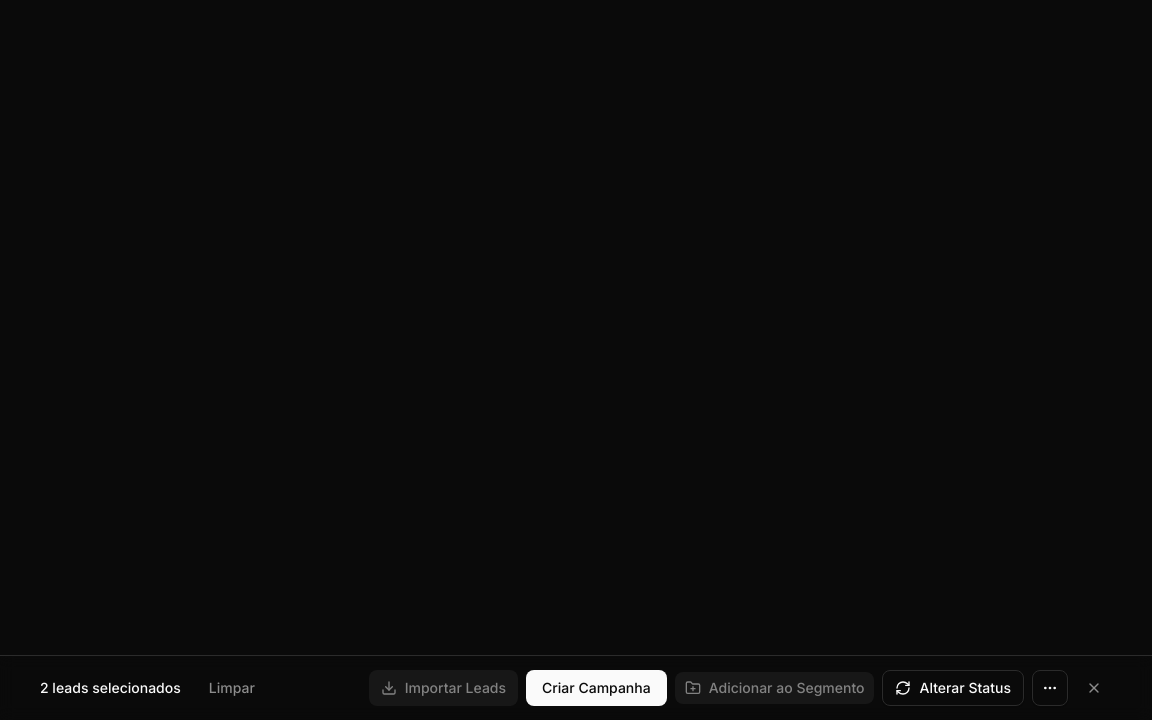
Test: LeadSelectionBar › Bulk Delete (Story 12.5) › AC#3: can cancel delete dialog
The image size is (1152, 720).
Click the 1st button named "Mais opções" at (1050, 688), box [1032,670,1068,706]
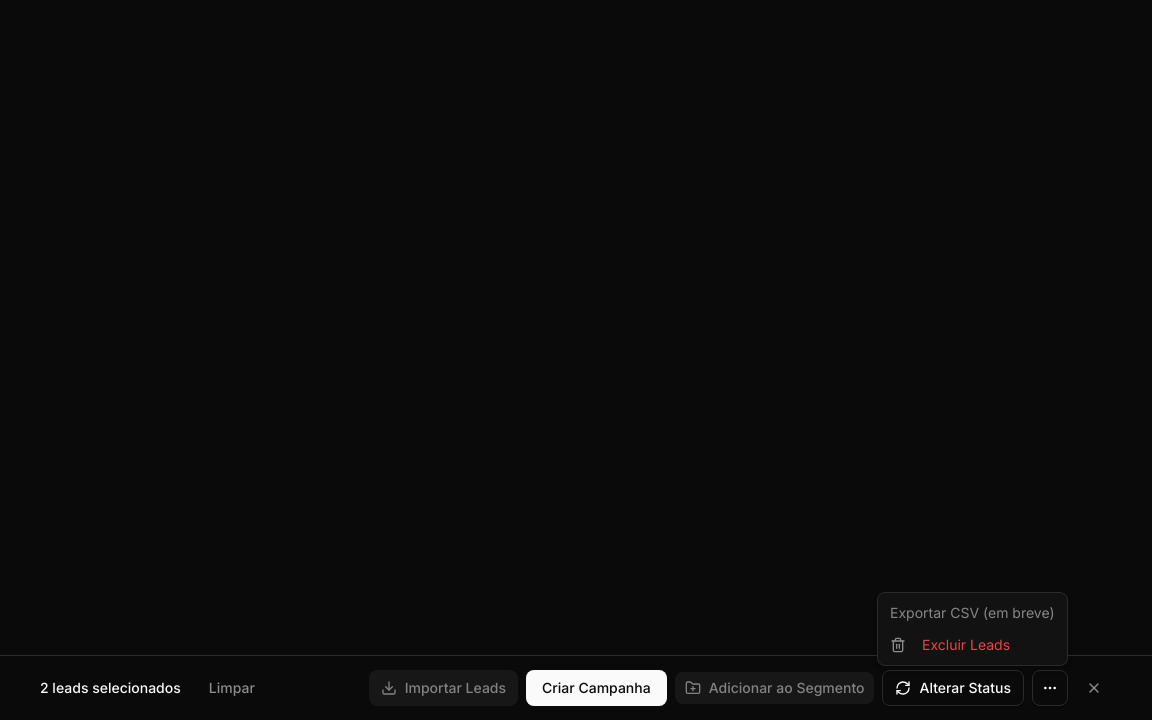
Now the menu item "Excluir Leads" is shown
Click the menu item "Excluir Leads" at (950, 644), box [890,636,1010,653]
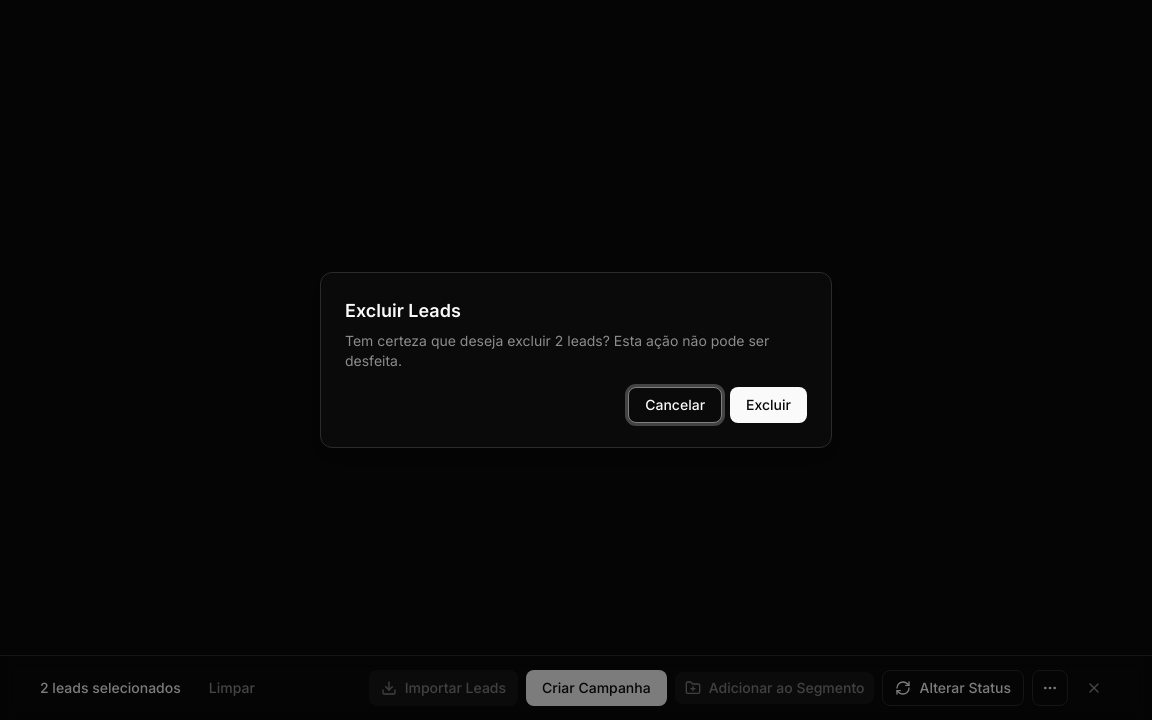
Now the button "Cancelar" is shown
Click the button "Cancelar" at (675, 405), box [628,387,722,423]
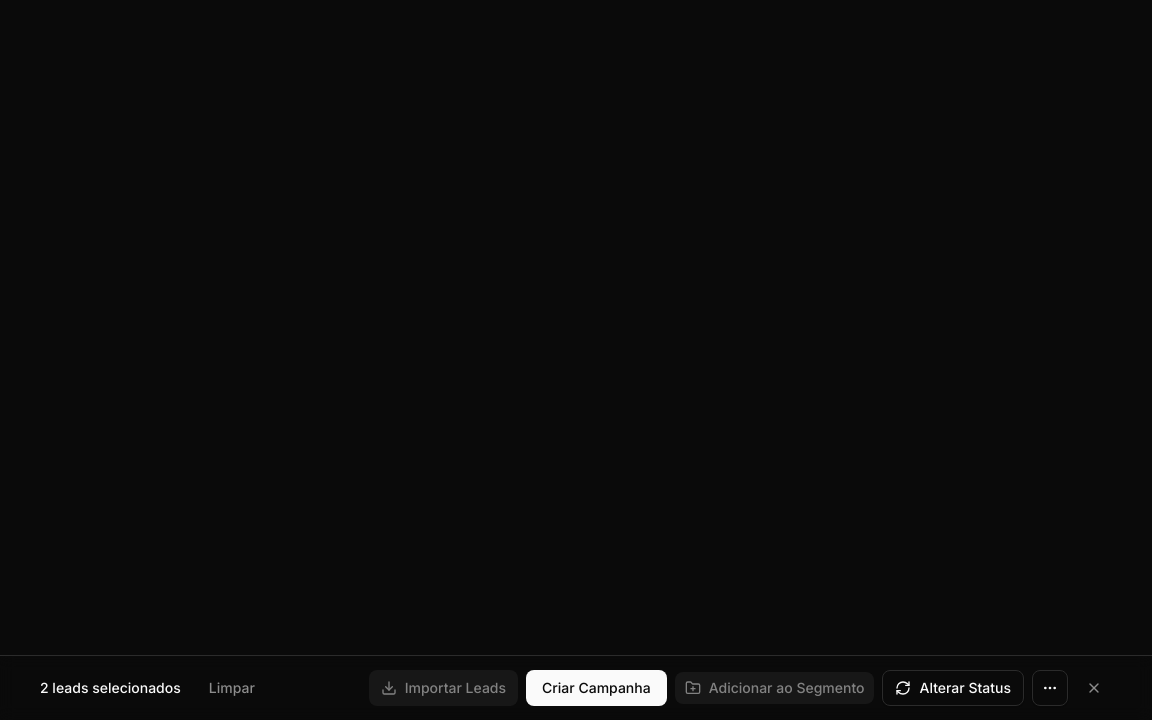
Now the text "Tem certeza que deseja excluir" is gone
